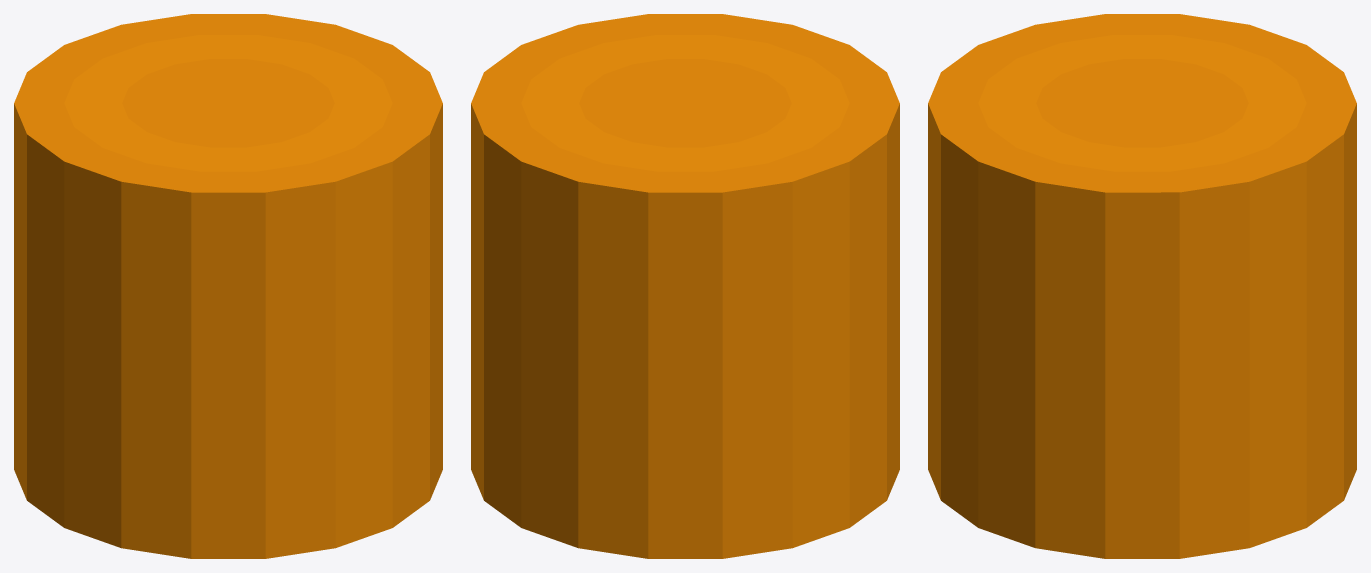
File: Tree log_11.fbx
The picture shows the model from 3 angles, left to right: view 1: azimuth 30°, elevation 25°; view 2: azimuth 150°, elevation 25°; view 3: azimuth 270°, elevation 25°; orthographic projection.
Parts seen in each view (by area): view 1: Circle.245; view 2: Circle.245; view 3: Circle.245.
Boxes of the visible parts, x1,y1,x2,y2 form: Circle.245: (14, 14, 442, 558); Circle.245: (471, 14, 899, 558); Circle.245: (928, 14, 1356, 558).
Bounding box in the file's own units: 20.08 × 19.22 × 20.39.
